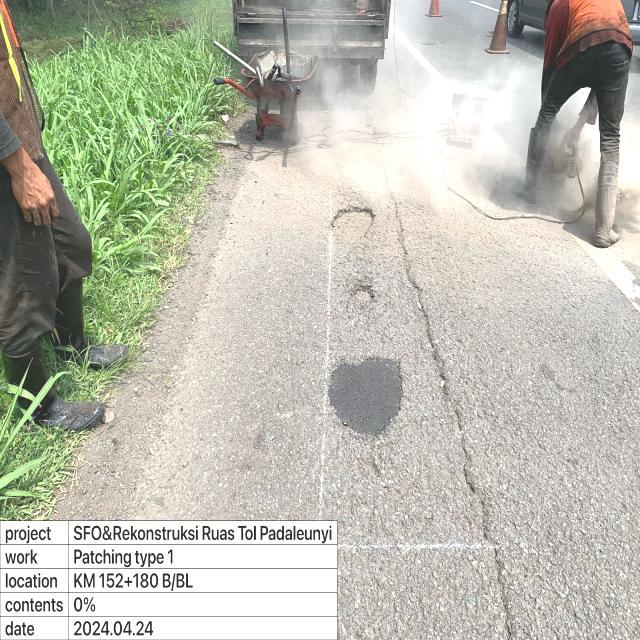Buraco: (328, 203, 378, 248), (348, 282, 381, 310)
